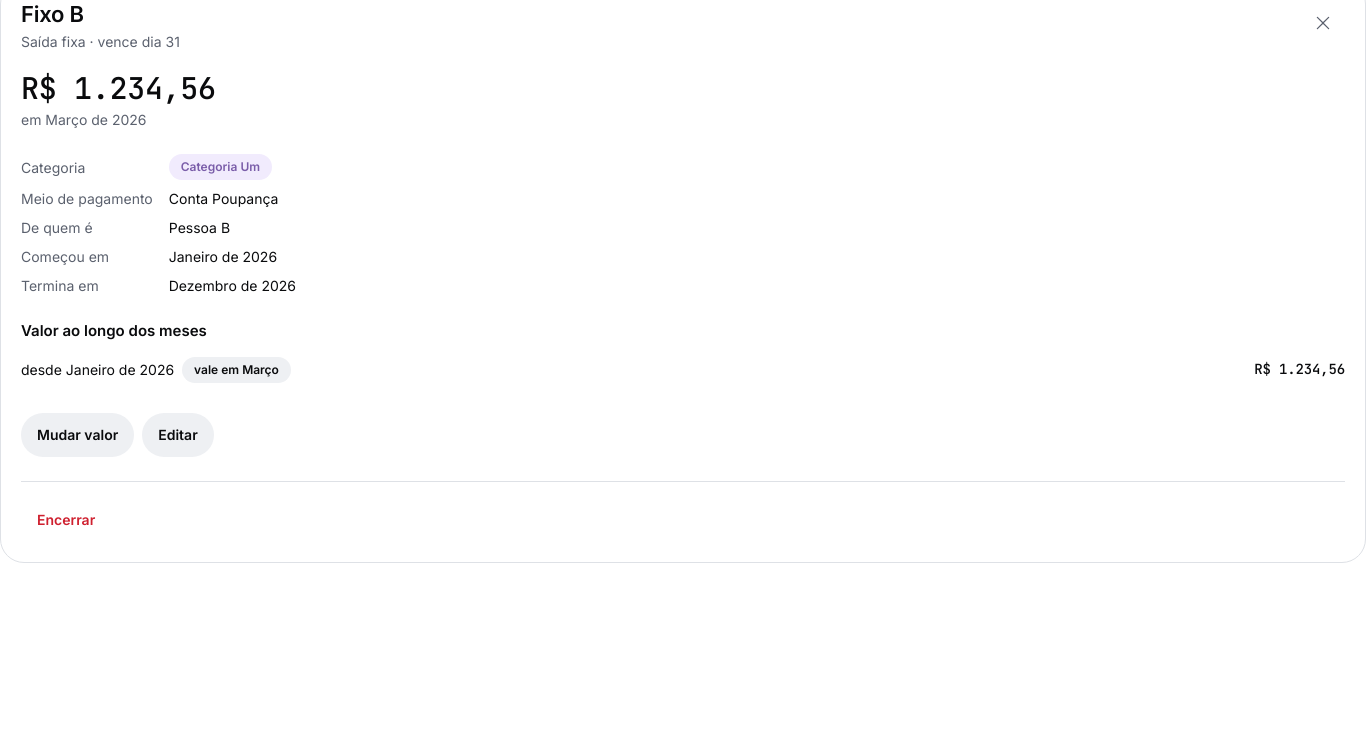
editar no painel (FIXCOL-05, ACs 4 a 6) › salvar com mudou=false mostra “Nada mudou: já estava tudo assim.” e o formulário fica
What coordinates should you click on to do the following:
click the button "Editar"
I would click on:
 (178, 435)
Its box is [142, 413, 214, 457].
(page scrolled)
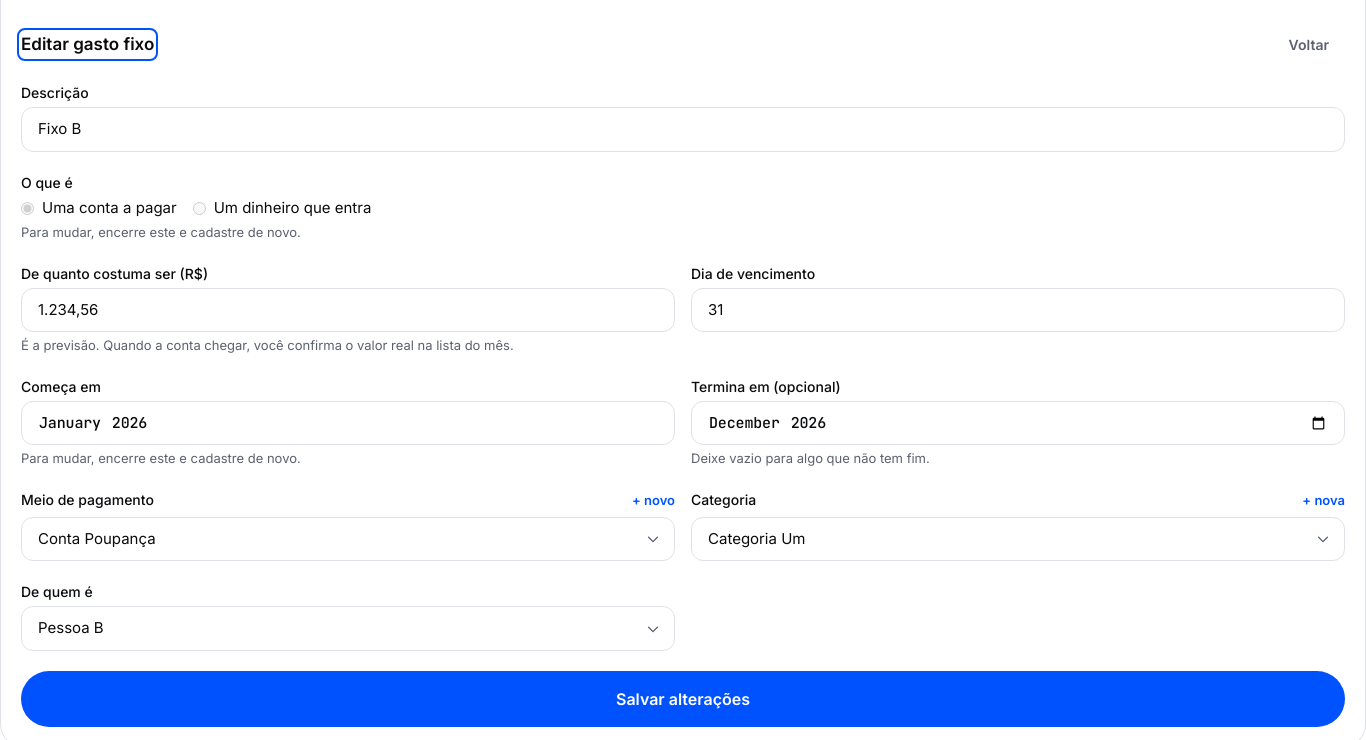
What coordinates should you click on to do the following:
click the button "Salvar alterações"
I would click on:
 (683, 699)
Its box is [21, 671, 1345, 727].
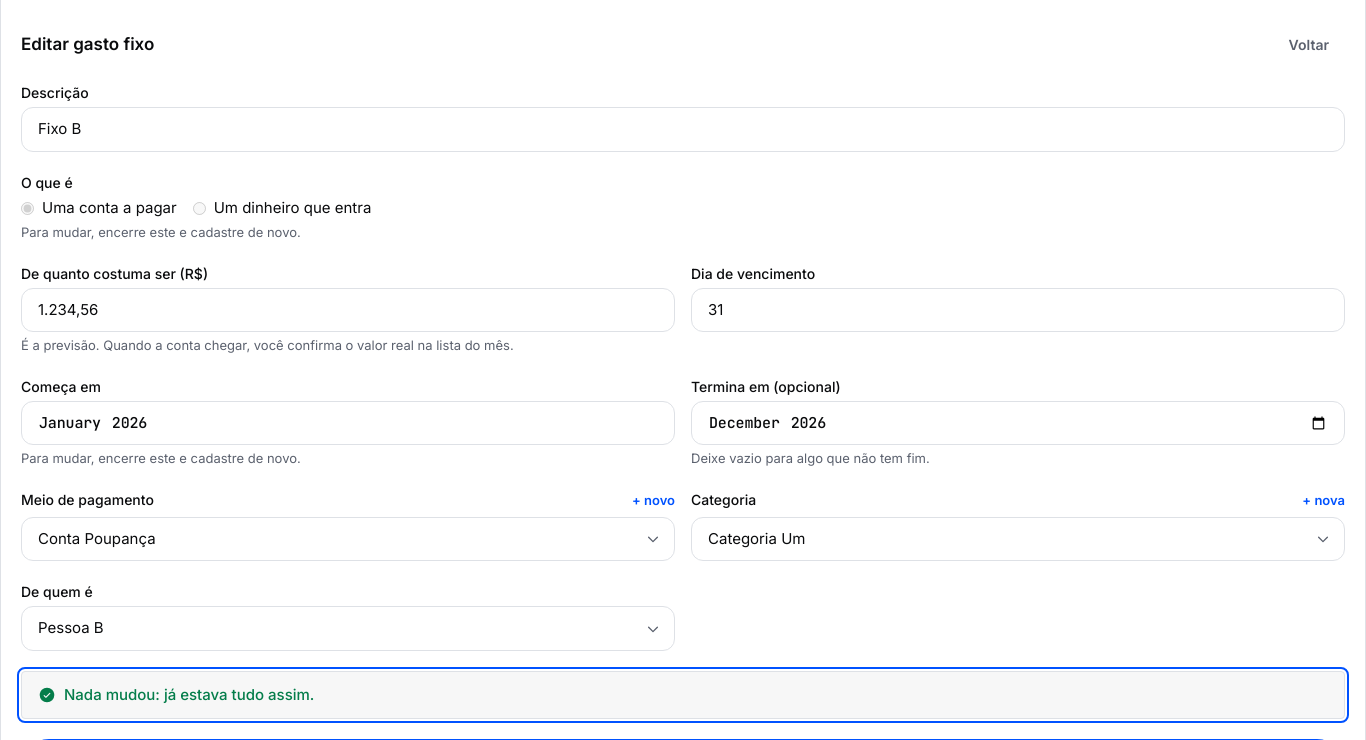
expect the message reads "Nada mudou: já estava tudo assim.": met, box [64, 685, 314, 704]
